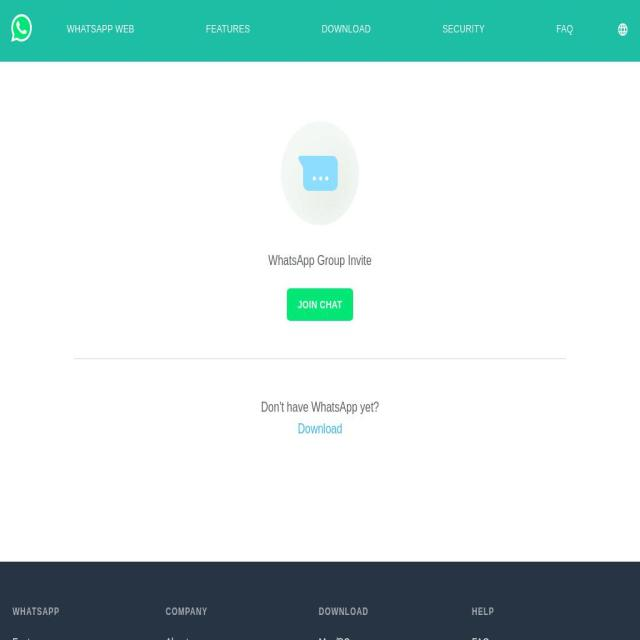button: (280, 120, 360, 227), (287, 288, 354, 321), (604, 5, 640, 57)
heading: (74, 254, 566, 268), (12, 606, 152, 617), (318, 606, 458, 617), (166, 606, 304, 617), (472, 606, 610, 617)
image: (280, 120, 360, 227), (5, 6, 33, 52), (617, 22, 629, 38)
link: (79, 38, 147, 54), (334, 38, 383, 54), (218, 38, 263, 54), (454, 38, 498, 54), (298, 422, 343, 436), (569, 38, 586, 54), (12, 636, 47, 640), (318, 636, 351, 640), (166, 636, 190, 640), (472, 636, 490, 640)
text: (260, 400, 378, 414)
